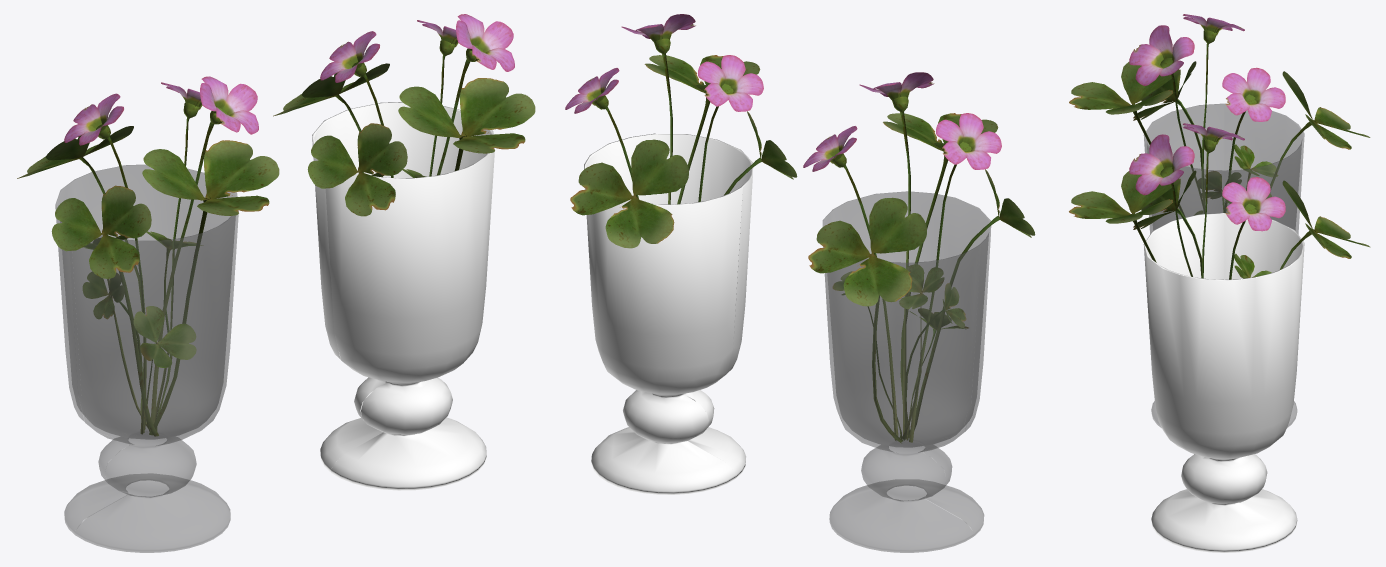
File: VaseFlowers.fbx
3 views of the same model, side by side, from view 1: azimuth 30°, elevation 25°; view 2: azimuth 150°, elevation 25°; view 3: azimuth 270°, elevation 25° (orthographic). The views are drawn at different scales.
Visible parts, largest first — view 1: GlassTransmission, GlassAlpha, Flowers1, Flowers2; view 2: GlassTransmission, GlassAlpha, Flowers1, Flowers2; view 3: GlassTransmission, Flowers1, Flowers2, GlassAlpha.
Boxes of the visible parts, x1,y1,x2,y2 form: GlassTransmission: (312, 102, 494, 490); GlassAlpha: (55, 164, 238, 552); Flowers1: (17, 76, 279, 436); Flowers2: (273, 14, 535, 216); GlassTransmission: (584, 133, 753, 494); GlassAlpha: (822, 191, 991, 552); Flowers1: (803, 72, 1035, 443); Flowers2: (565, 14, 797, 248); GlassTransmission: (1143, 213, 1304, 552); Flowers1: (1069, 14, 1370, 217); Flowers2: (1069, 123, 1370, 279); GlassAlpha: (1143, 103, 1304, 427).
Size of the model in its own units: 0.2173 by 0.2032 by 0.1425.
3 materials, 1 textured.
